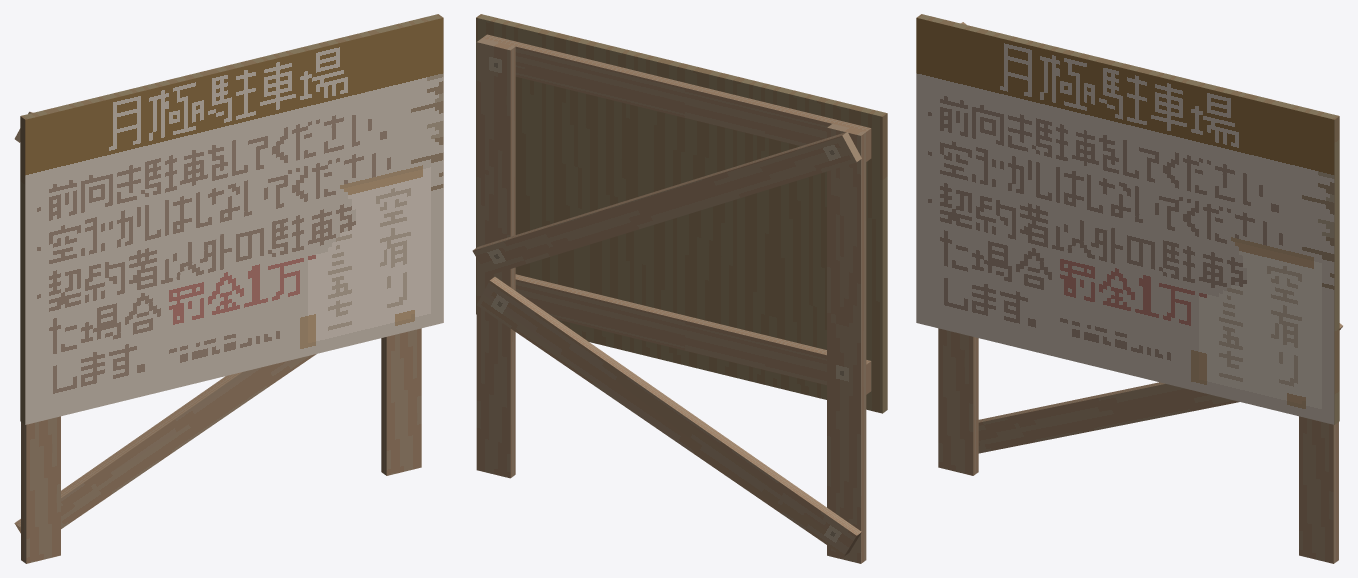
File: 0318_No_Parking.glb
3 renders of one model, left to right at view 1: azimuth 30°, elevation 25°; view 2: azimuth 150°, elevation 25°; view 3: azimuth 330°, elevation 25°, orthographic. The views are drawn at different scales.
Visible parts, largest first — view 1: part_0; view 2: part_0; view 3: part_0.
Boxes of the visible parts, <box> form: part_0: <box>14,14,443,563</box>; part_0: <box>472,14,887,563</box>; part_0: <box>916,14,1342,563</box>.
Bounding box in the file's own units: 1.38 × 1.43 × 0.1225.
Materials: 1 (1 with a texture image).
